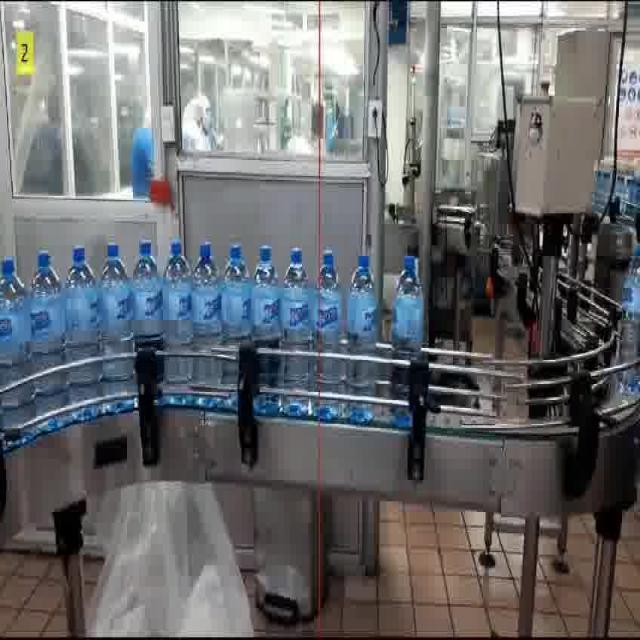bottle: (27, 245, 71, 405), (65, 244, 107, 399), (344, 253, 381, 425), (278, 245, 314, 418), (311, 246, 345, 421), (0, 255, 37, 413), (96, 241, 134, 382), (189, 239, 222, 395), (160, 238, 194, 389), (394, 248, 434, 362), (250, 244, 289, 359), (129, 237, 164, 341), (219, 241, 252, 345)
